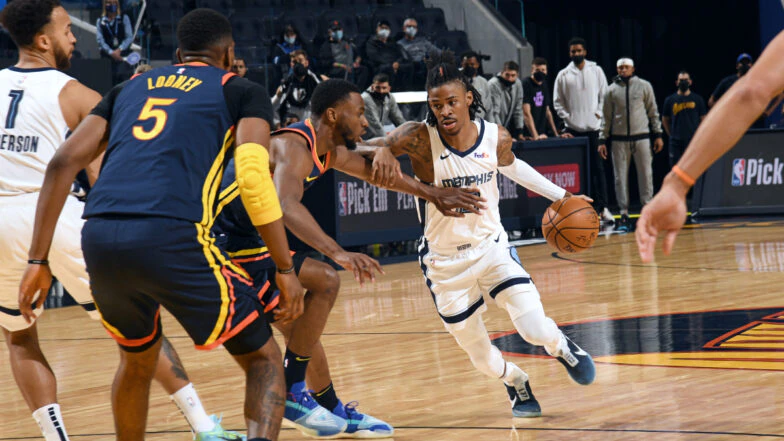basketball: (541, 193, 604, 261)
basketball_player: (75, 11, 291, 441), (373, 67, 541, 410)
basketball_shoe: (551, 330, 599, 391)
